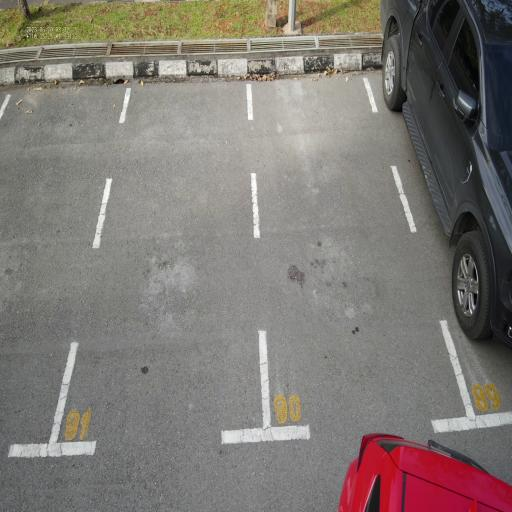Empty: (41, 71, 273, 463), (244, 70, 481, 449)
